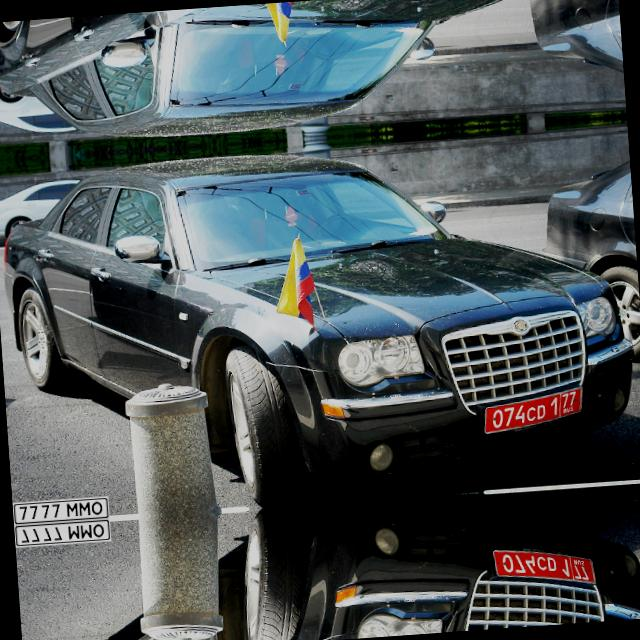diplomatic: (477, 382, 589, 438), (488, 537, 600, 593)
